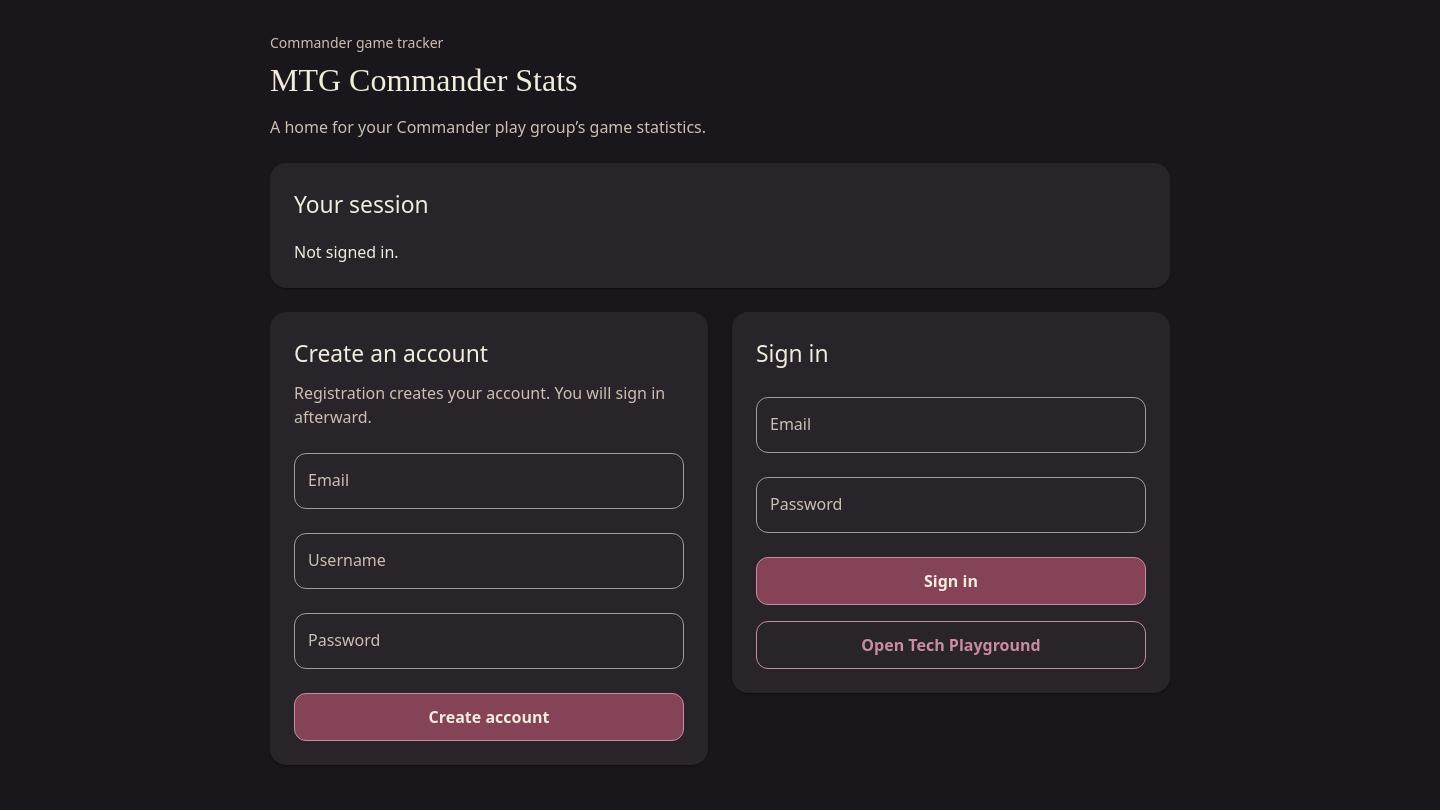
Test: signed-out /playgroups is safe and sign-in opens only the valid destination Playgroups
expect the text "Not signed in." is shown: met, box [294,241,399,263]
Type "owner@example.test" into the 1st field labelled "Email" at (951, 424), box [756,396,1146,452]
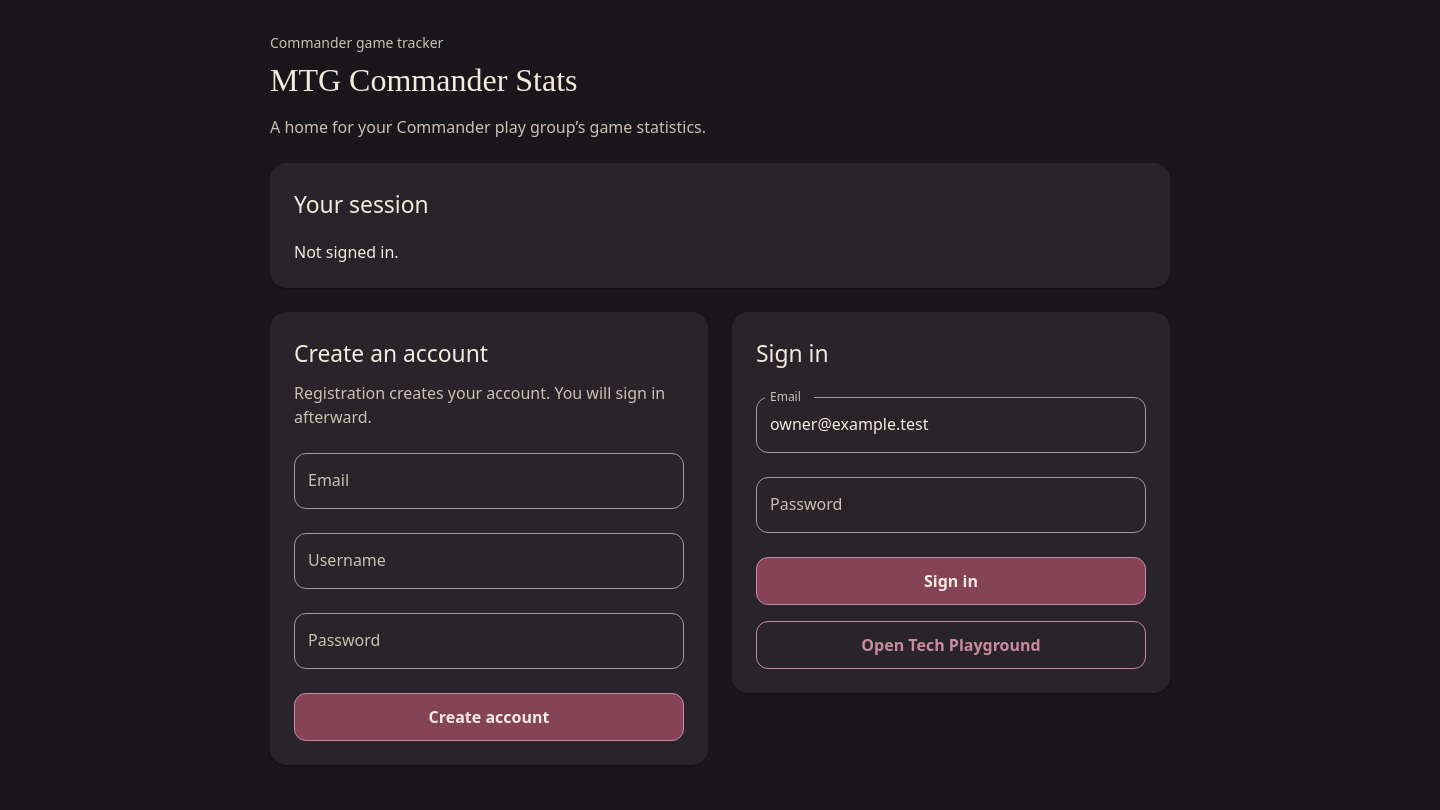
Type "correct horse battery" into the 1st password field labelled "Password" at (951, 504), box [756,476,1146,532]
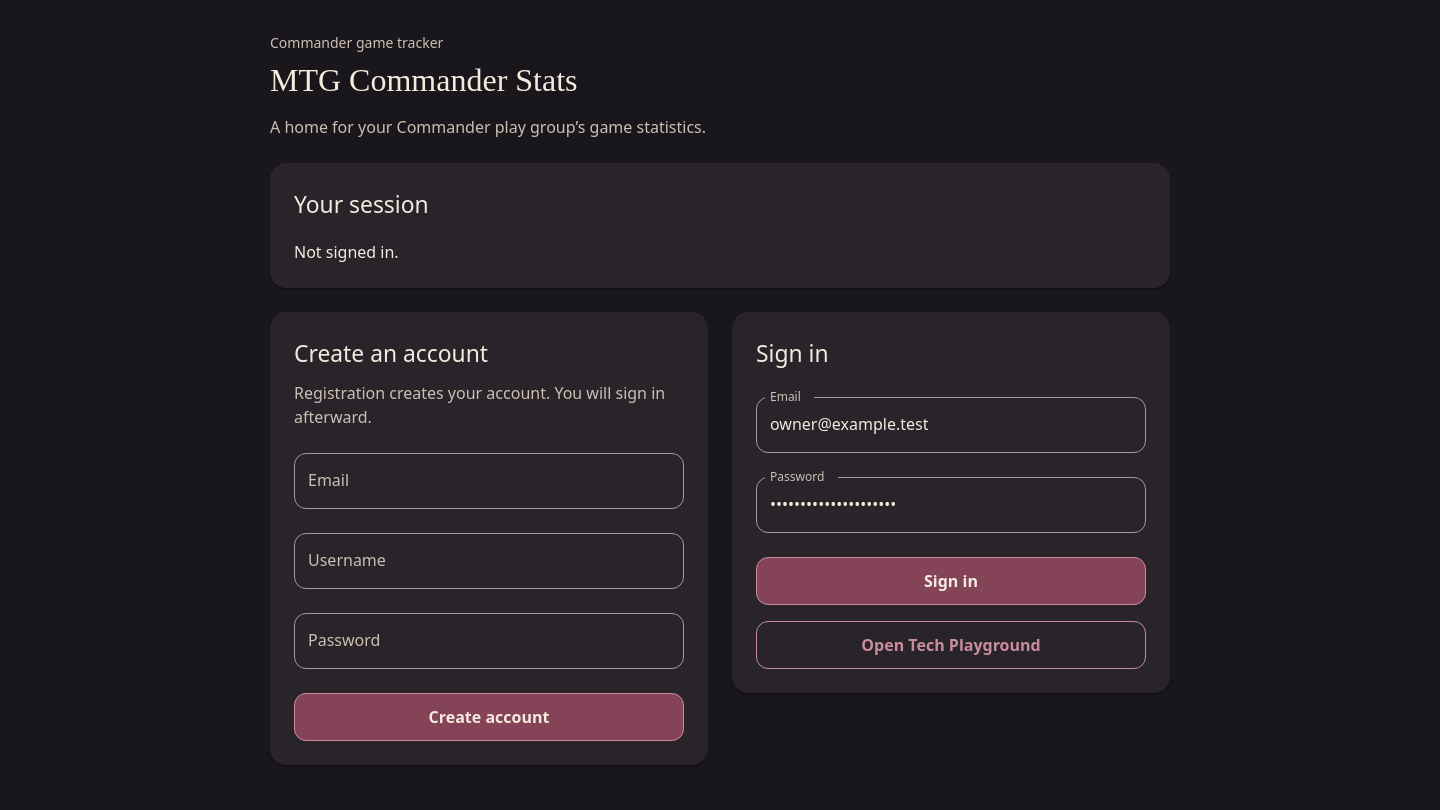
Click the button "Sign in" at (951, 580), box [756,556,1146,604]
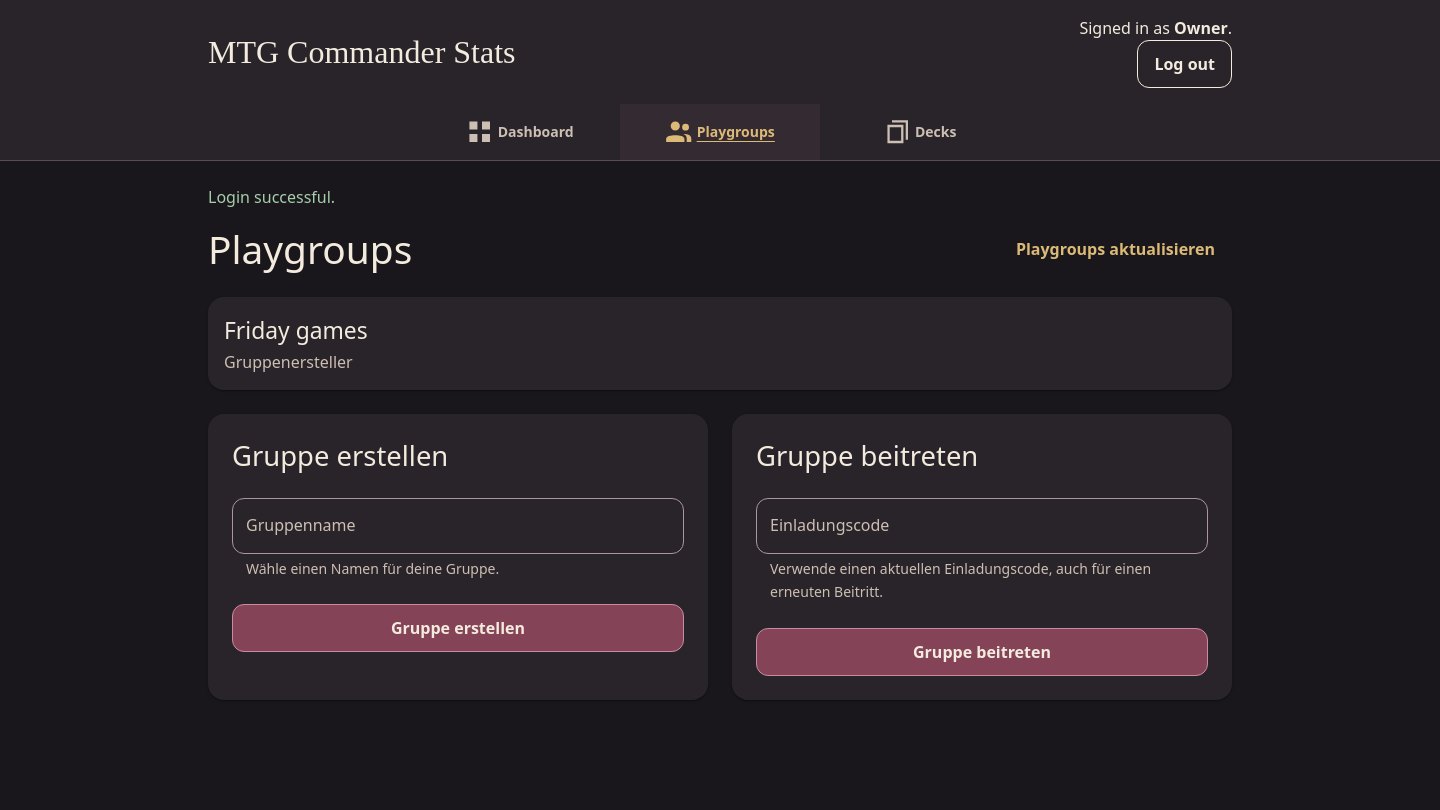
expect the text "Login successful." is shown: met, box [208,186,335,208]
expect the button "Friday games Gruppenersteller" is shown: met, box [208,297,1232,390]
